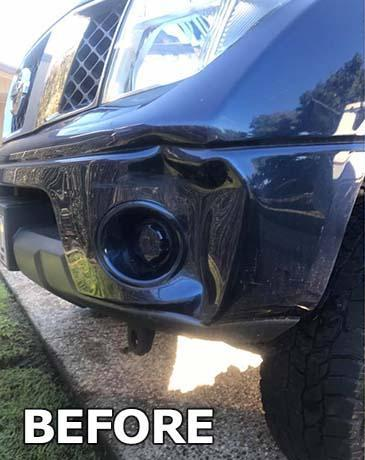dent: (71, 113, 333, 334)
